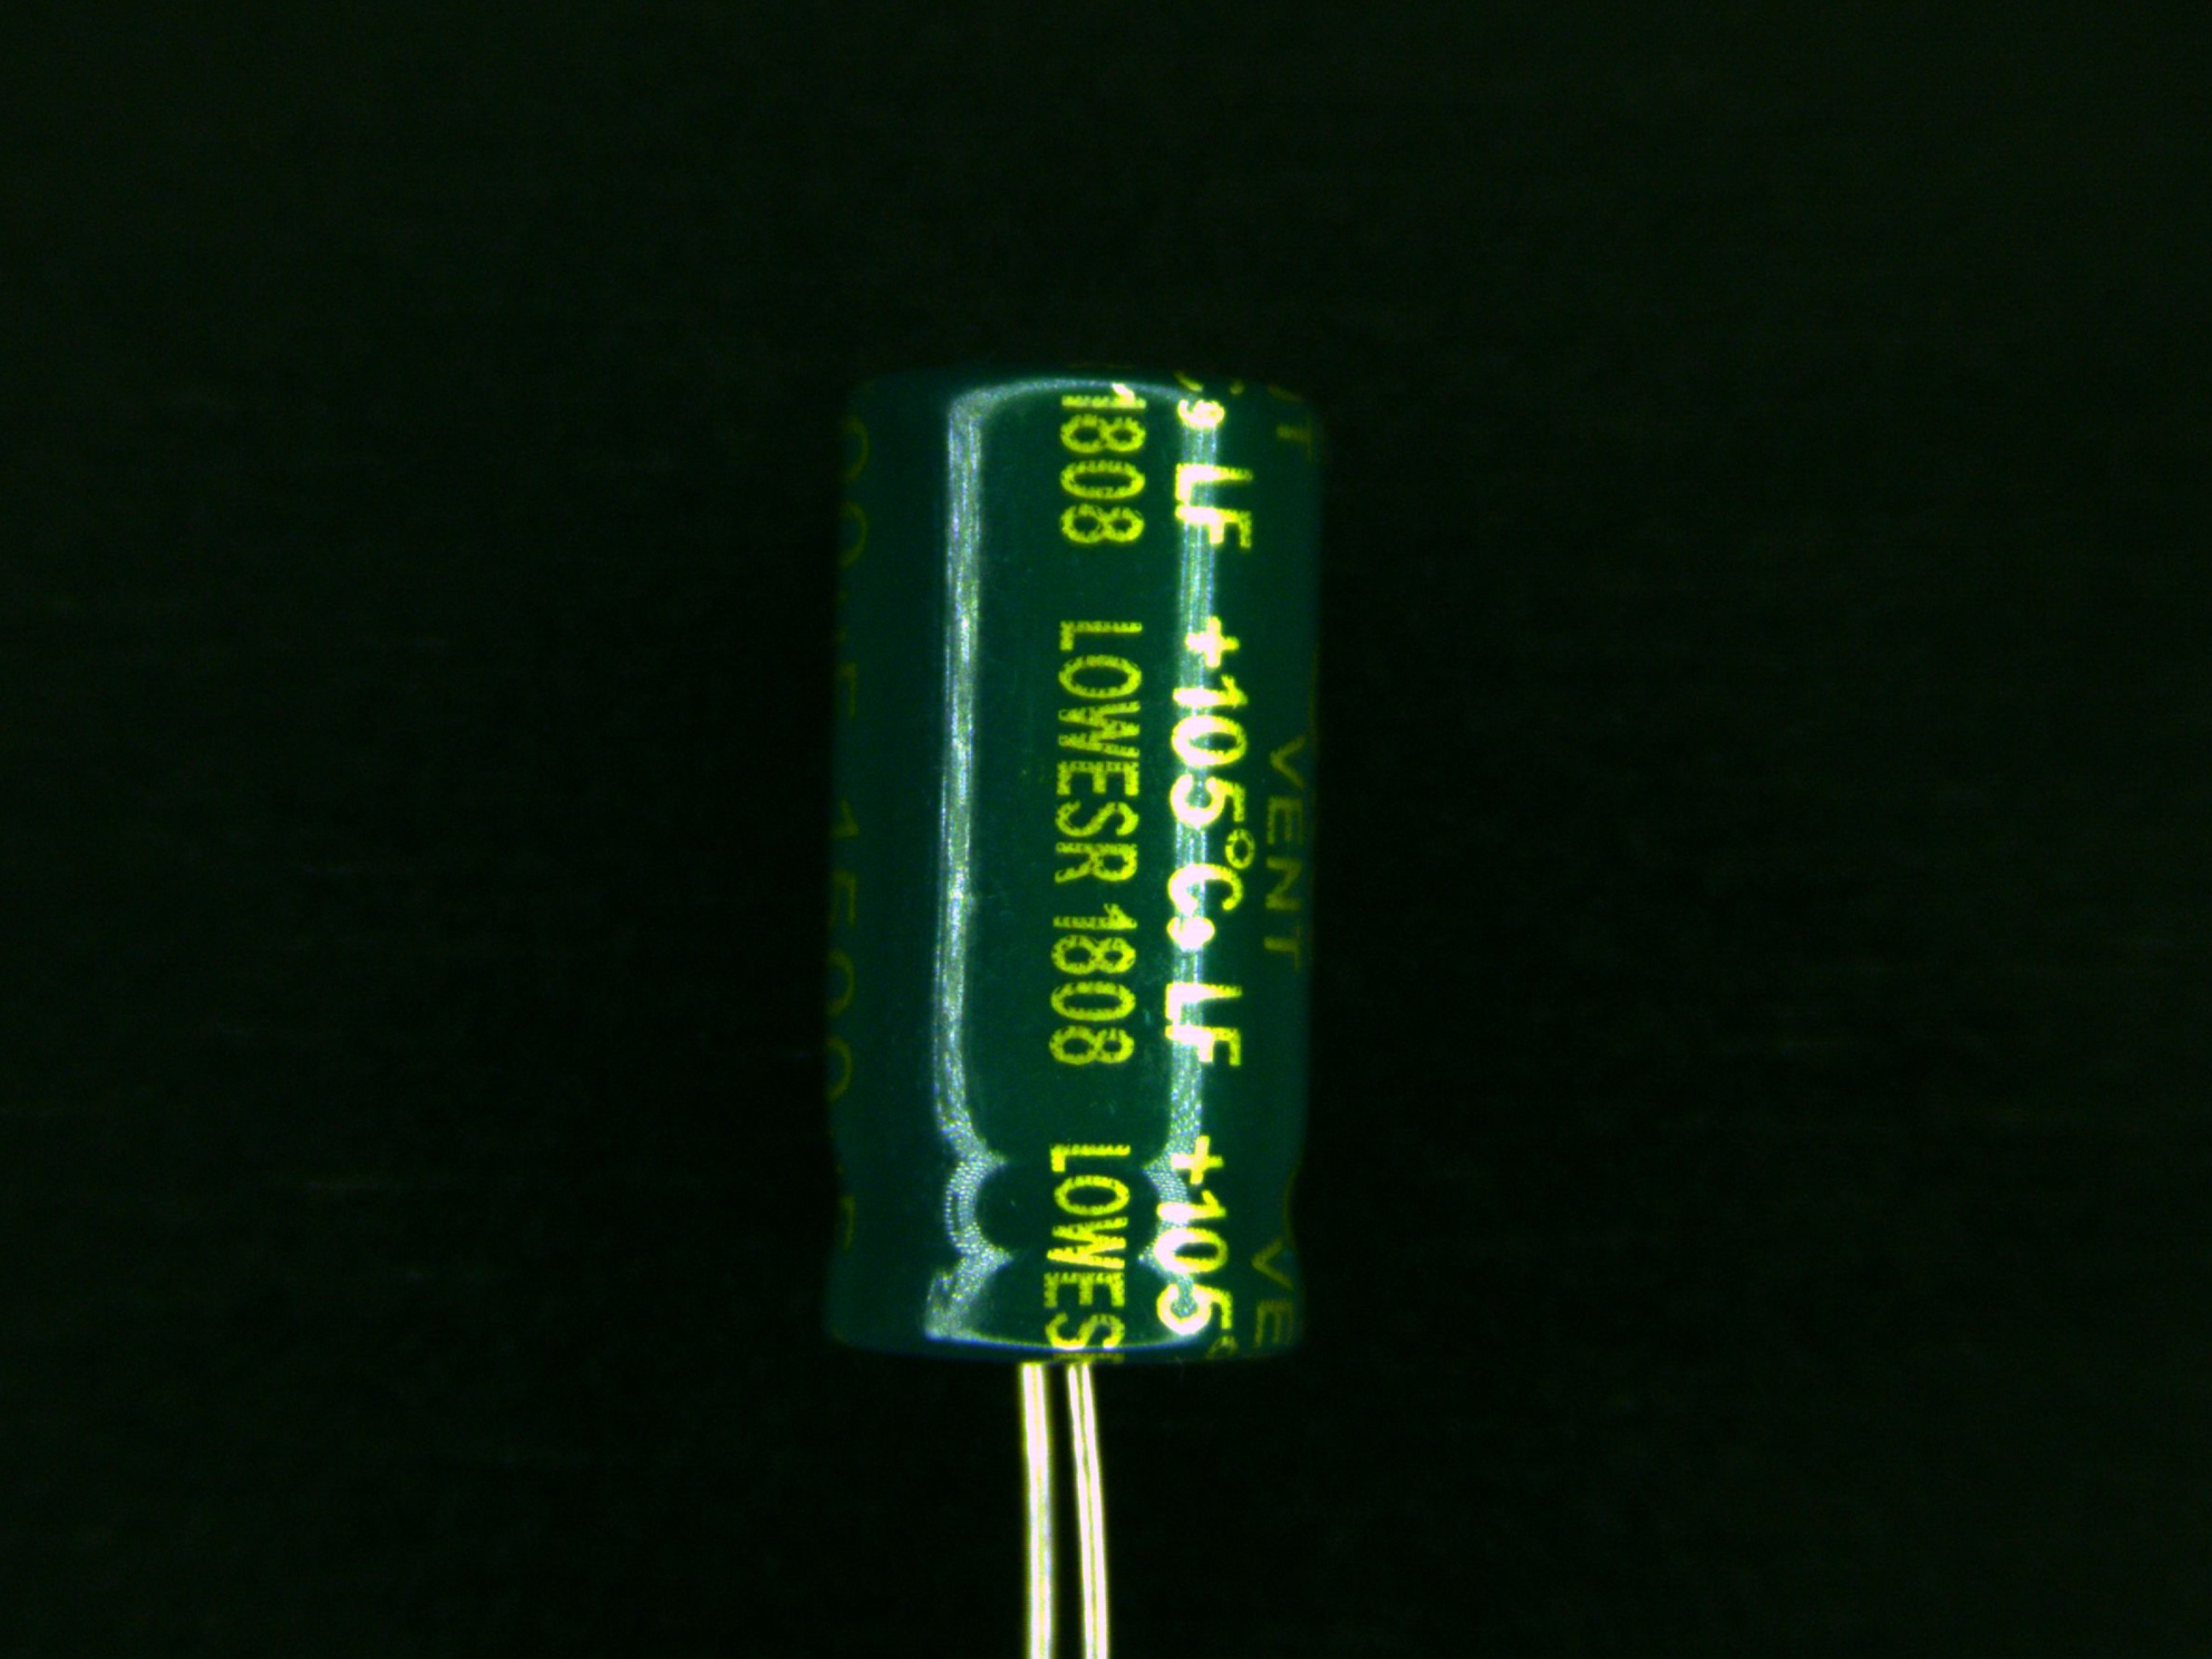c1: (810, 373, 1331, 1413)
